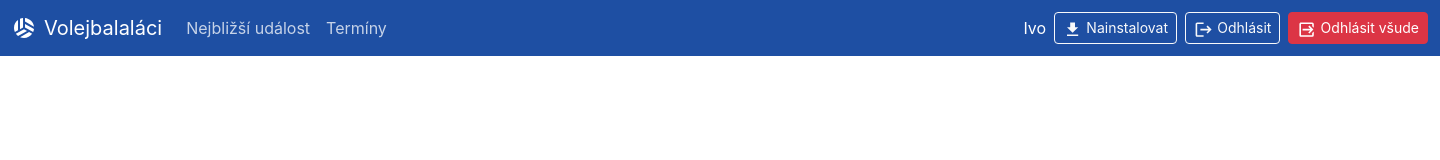
Scenario: Nainstalovat appears after beforeinstallprompt when not standalone
This screenshot has width=1440, height=160.
Click the button "Nainstalovat" at (1116,28), box x1=1054 y1=12 x2=1177 y2=44
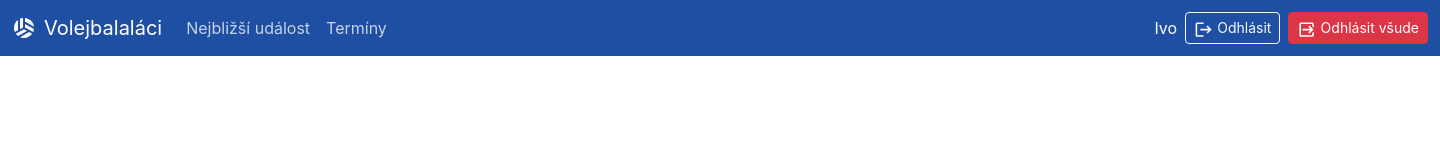
Expected: the button "Nainstalovat" is gone
